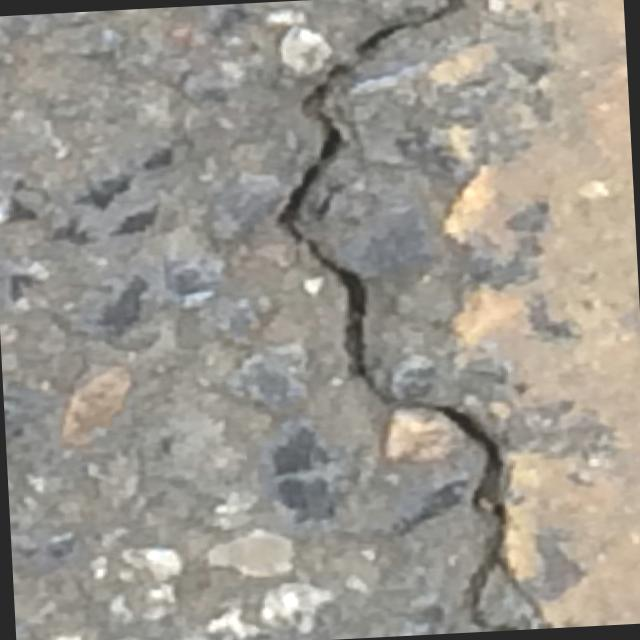crack: (258, 0, 561, 640)
